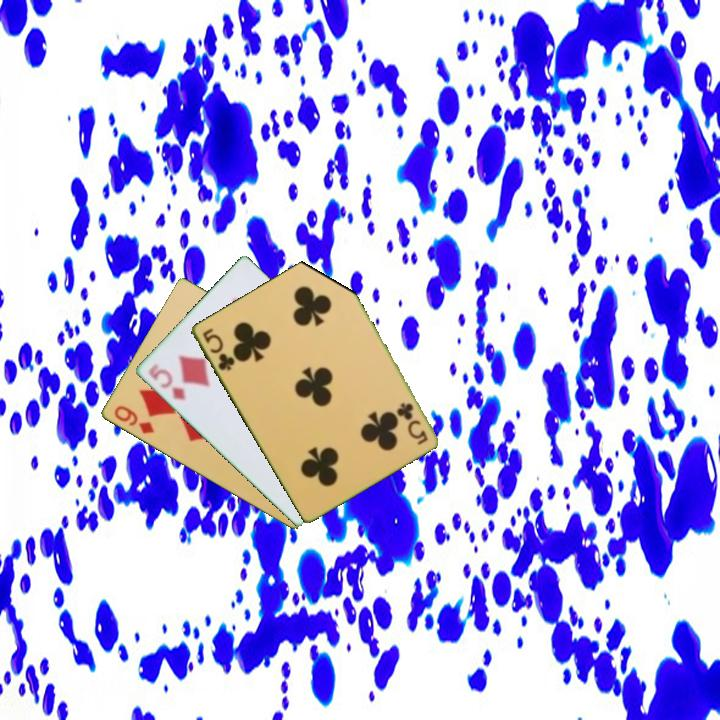5c: (198, 324, 237, 374), (394, 399, 431, 447)
5d: (144, 360, 188, 404)
9d: (110, 402, 157, 437)
